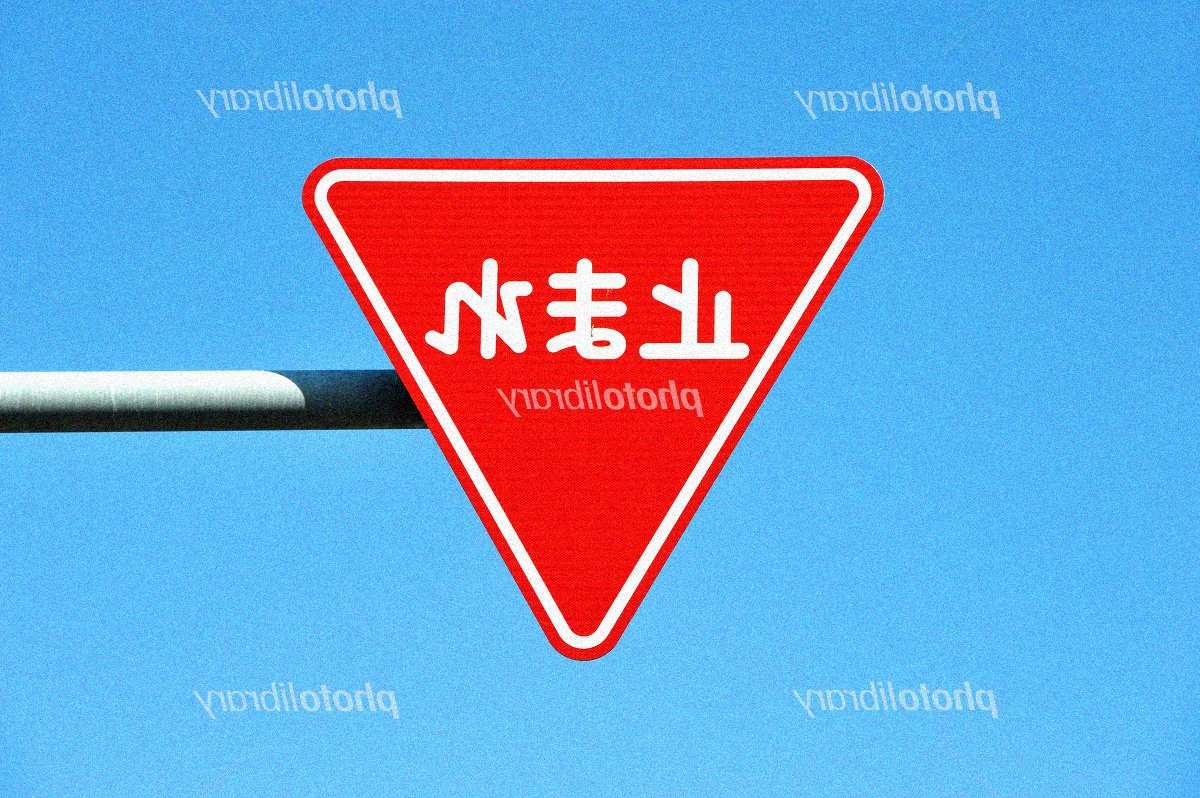Regulatory_sign_triangle: (289, 135, 896, 692)
